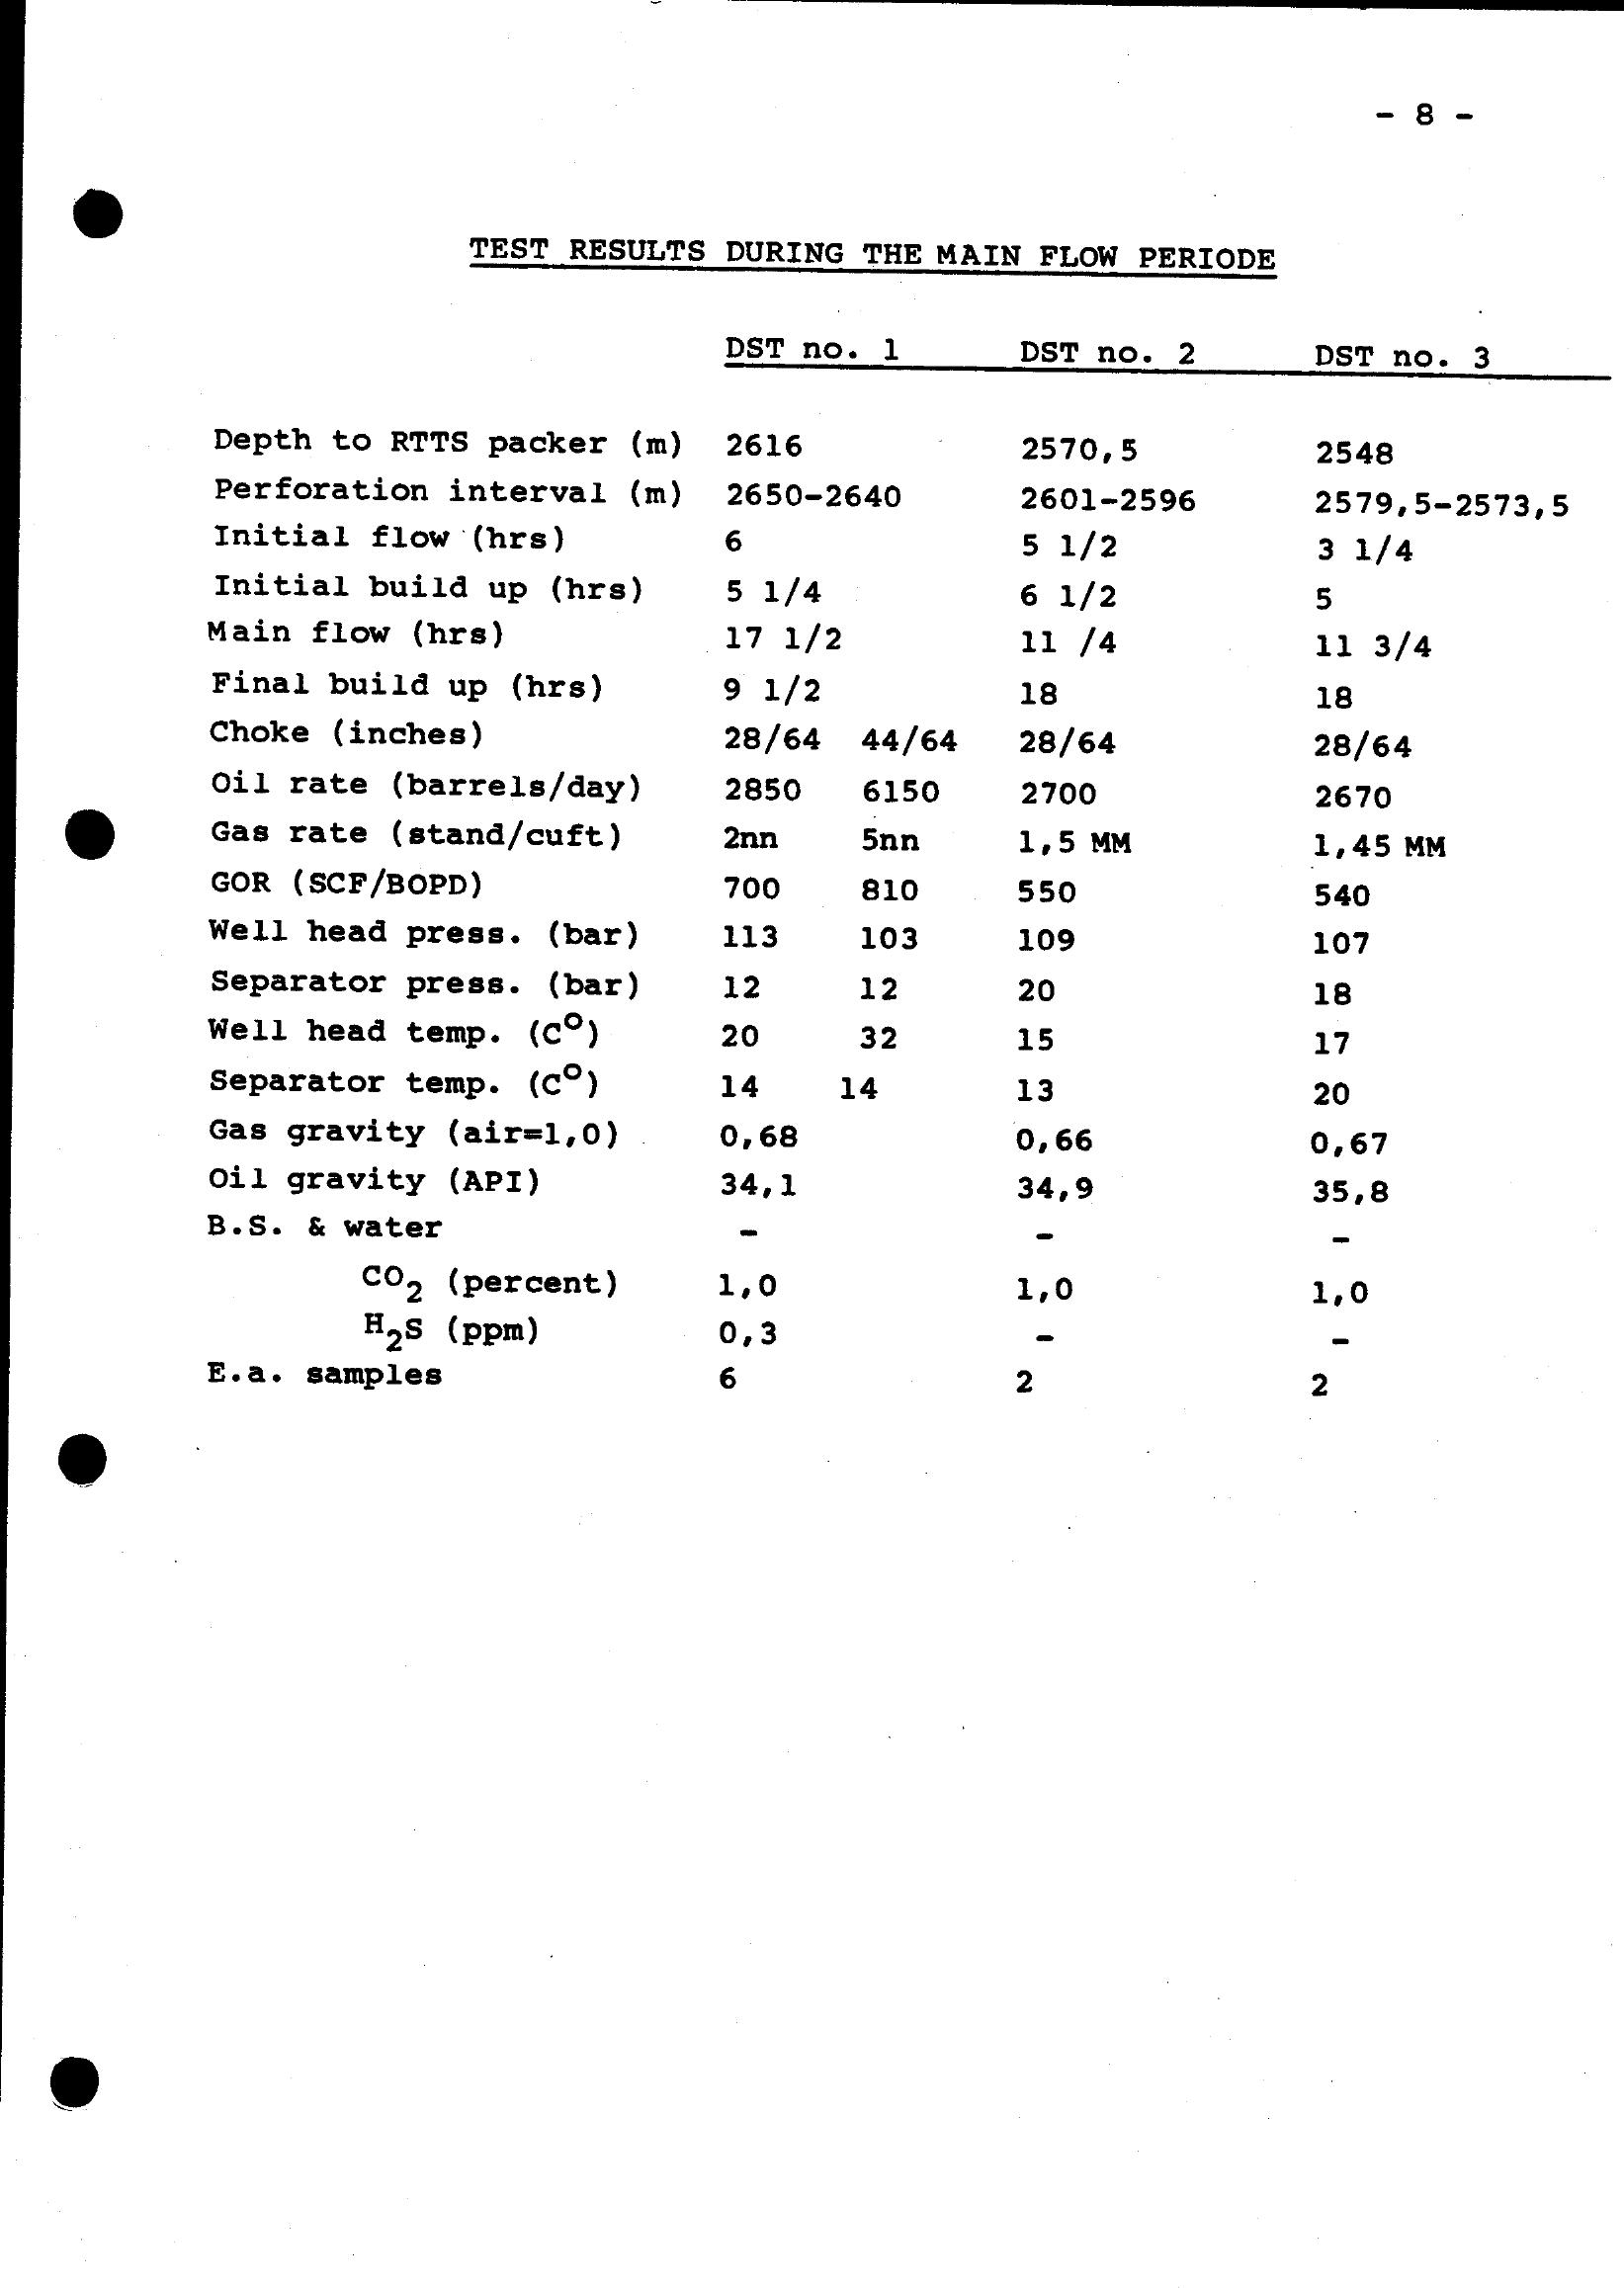table: (172, 207, 1624, 1476)
